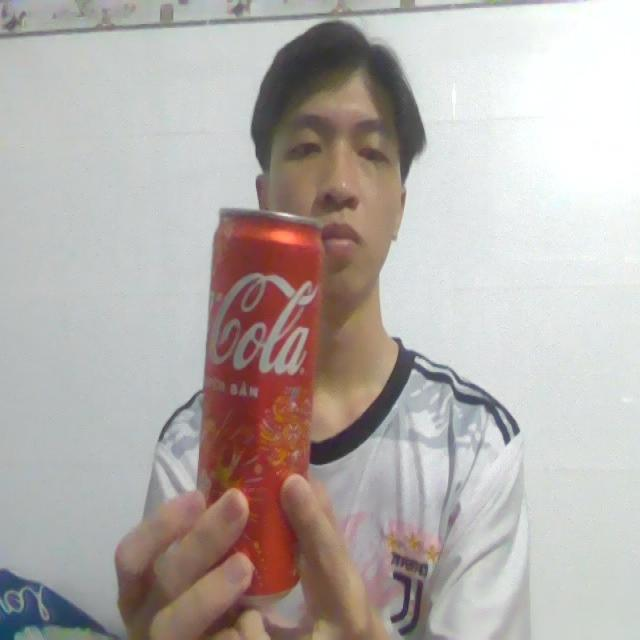cocacola: (184, 201, 333, 610)
